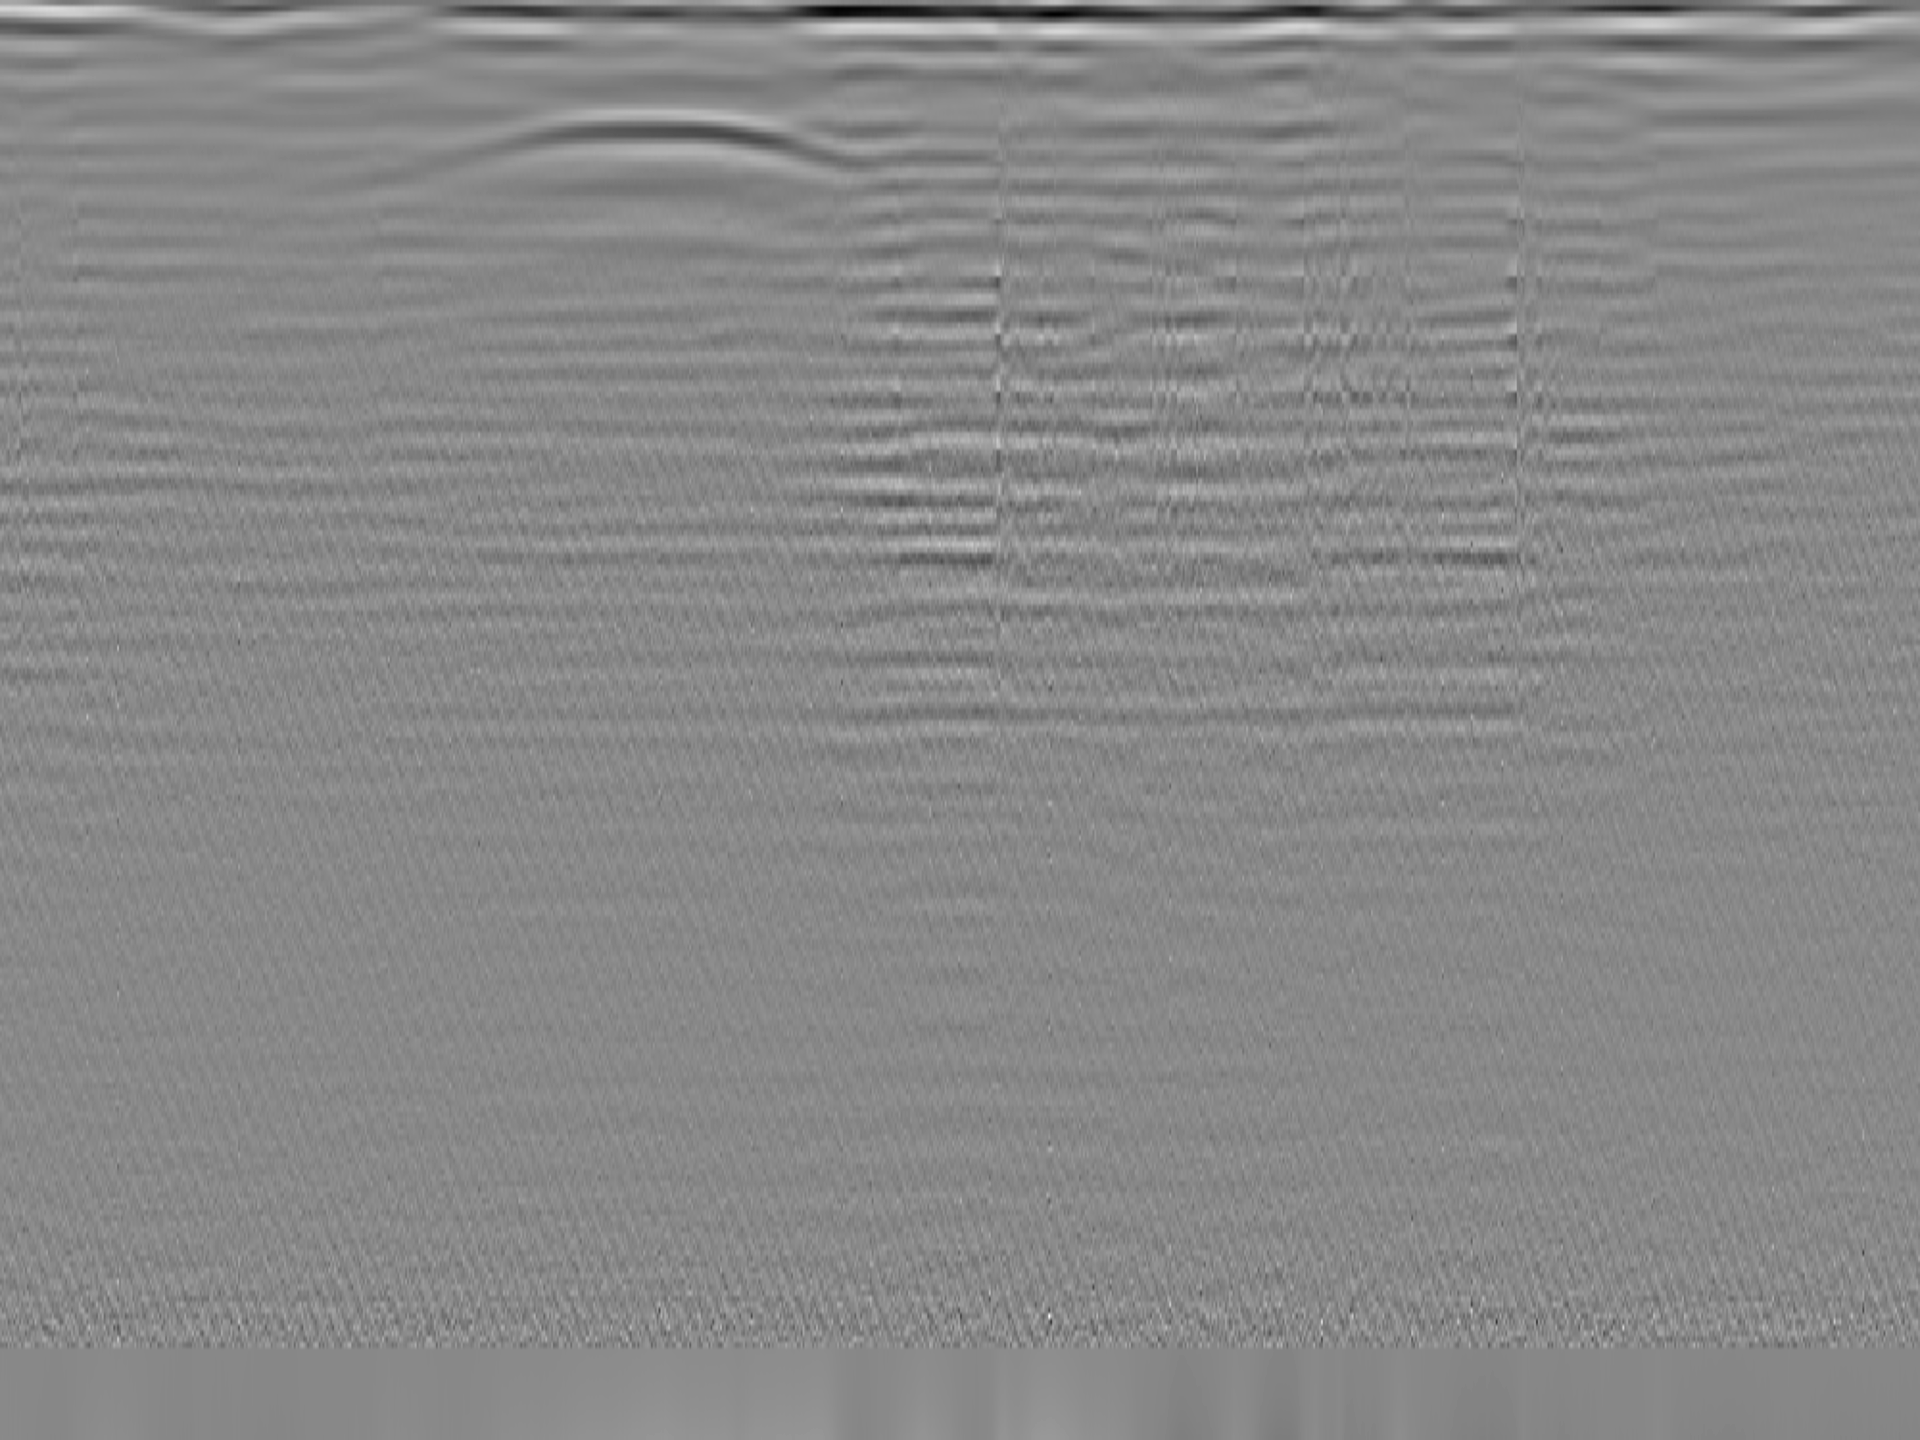Tunnel: (290, 109, 943, 191)
